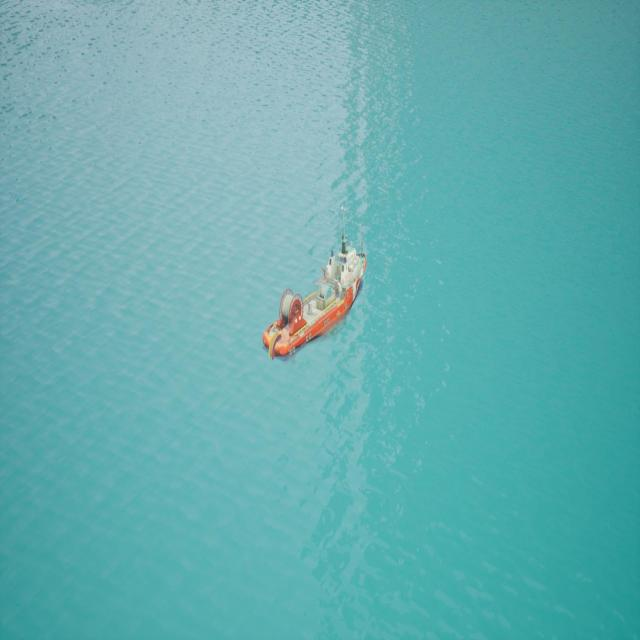tug boat: (276, 231, 369, 362)
